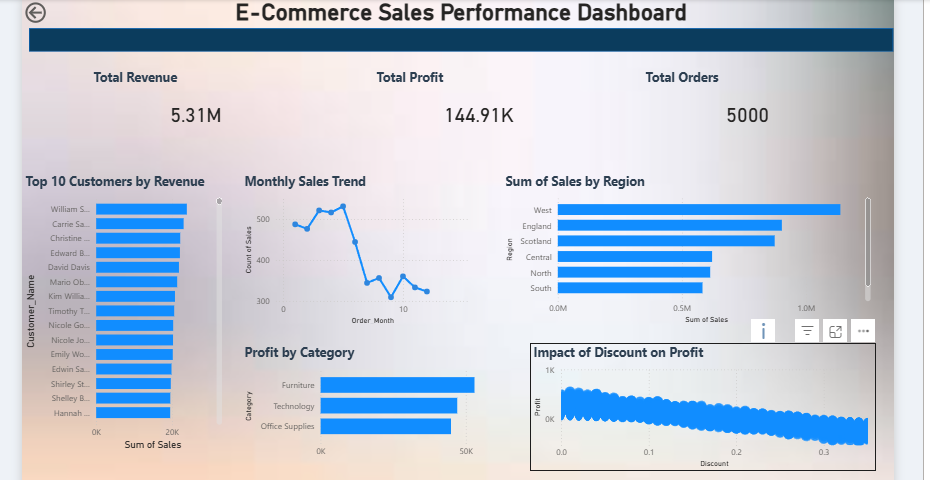

The page's visual inventory and layout, read from the dashboard file:
{"tool":"powerbi","page":{"name":"Page 1","canvas":[1280,720],"ordinal":0},"visuals":[{"type":"shape","title":"E-Commerce Sales Performance Dashboard","box":[10.1,0,1269.9,77.3],"z":0},{"type":"card","title":"Total Revenue","fields":{"Values":["Sheet1.Total Revenue"]},"box":[99.8,101.6,310,109.2],"z":1000},{"type":"card","title":"Total Orders","fields":{"Values":["Sheet1.Total Orders"]},"box":[911.1,101.6,309,109.2],"z":2000},{"type":"card","title":"Total Profit","fields":{"Values":["Sheet1.Total Profit"]},"box":[515.8,101.6,310.6,109.2],"z":3000},{"type":"lineChart","title":"Monthly Sales Trend","fields":{"Category":["Sheet1.Order_Month"],"Y":["CountNonNull(Sheet1.Sales)"]},"box":[322.5,253.6,341,228.5],"z":4000},{"type":"actionButton","box":[0,0,100,40],"z":5000},{"type":"clusteredBarChart","title":"Profit by Category","fields":{"Category":["Sheet1.Category"],"Y":["Sum(Sheet1.Profit)"]},"box":[322.5,505.6,388,176.4],"z":6000},{"type":"scatterChart","title":"Impact of Discount on Profit","fields":{"X":["Sheet1.Discount"],"Y":["Sheet1.Profit"],"Size":["Sum(Sheet1.Sales)"]},"box":[745.8,505.6,509,188.1],"z":7000},{"type":"clusteredBarChart","title":"Top 10 Customers by Revenue","fields":{"Category":["Sheet1.Customer_Name"],"Y":["Sum(Sheet1.Sales)"]},"box":[0,253.6,299,413.2],"z":8000},{"type":"clusteredBarChart","fields":{"Category":["Sheet1.Region"],"Y":["Sum(Sheet1.Sales)"]},"box":[705.3,254.2,546.6,227.8],"z":9000}]}

Visuals, with their boxes on the page's 1280x720 design canvas (x1, y1, x2, y2). These are canvas units, not pixel positions in the 930x480 screenshot, which may show the page scaled, cropped or inside an application window:
"E-Commerce Sales Performance Dashboard" shape: bbox=[10, 0, 1280, 77]
"Total Revenue" card: bbox=[100, 102, 410, 211]
"Total Orders" card: bbox=[911, 102, 1220, 211]
"Total Profit" card: bbox=[516, 102, 826, 211]
"Monthly Sales Trend" lineChart: bbox=[322, 254, 664, 482]
actionButton: bbox=[0, 0, 100, 40]
"Profit by Category" clusteredBarChart: bbox=[322, 506, 710, 682]
"Impact of Discount on Profit" scatterChart: bbox=[746, 506, 1255, 694]
"Top 10 Customers by Revenue" clusteredBarChart: bbox=[0, 254, 299, 667]
clusteredBarChart - Sheet1.Region x Sum(Sheet1.Sales): bbox=[705, 254, 1252, 482]
